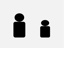human: (12, 11, 27, 38), (38, 18, 51, 38)
